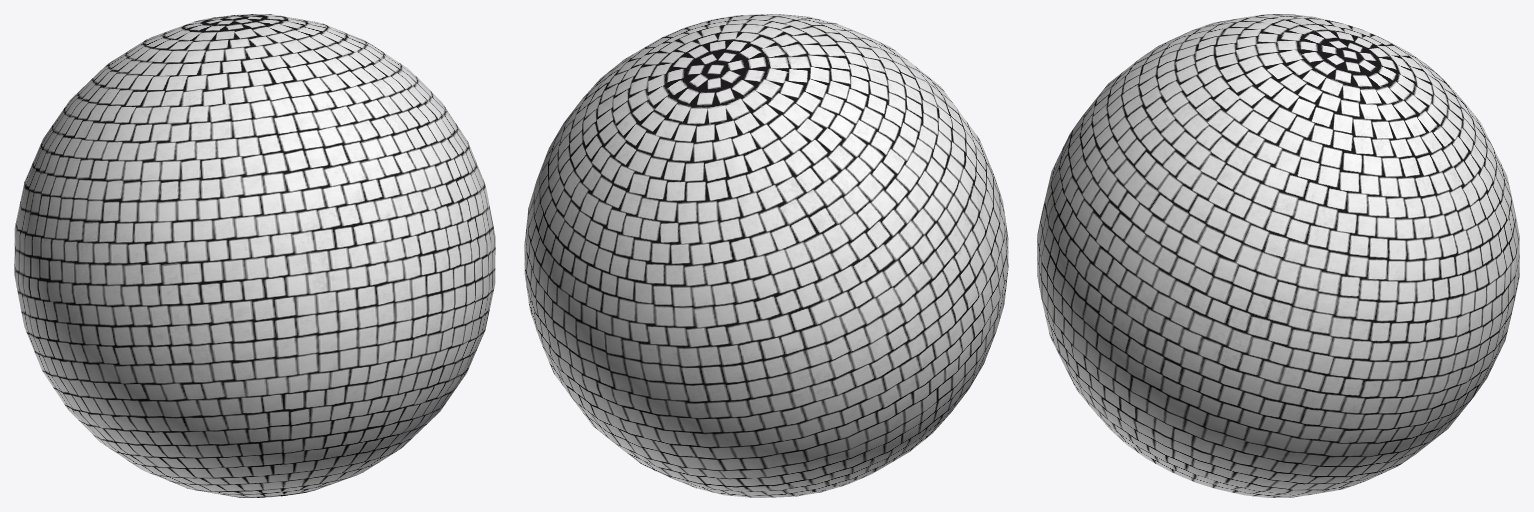
The model's file is disco_ball.glb.
3 views of the same model, side by side, from view 1: azimuth 30°, elevation 25°; view 2: azimuth 150°, elevation 25°; view 3: azimuth 270°, elevation 25° (orthographic).
Visible parts, largest first — view 1: DiscoBall_7; view 2: DiscoBall_7; view 3: DiscoBall_7.
Boxes of the visible parts, <box> form: DiscoBall_7: <box>14,14,495,497</box>; DiscoBall_7: <box>524,14,1008,497</box>; DiscoBall_7: <box>1037,14,1519,497</box>.
Bounding box in the file's own units: 0.278 × 0.2777 × 0.2776.
Materials: 1 (1 with a texture image).
